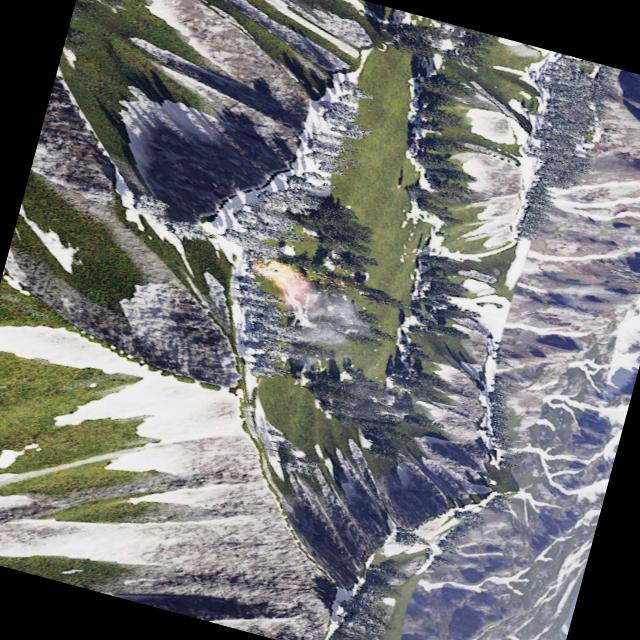fire: (256, 258, 302, 297)
smoke: (272, 275, 375, 360)
